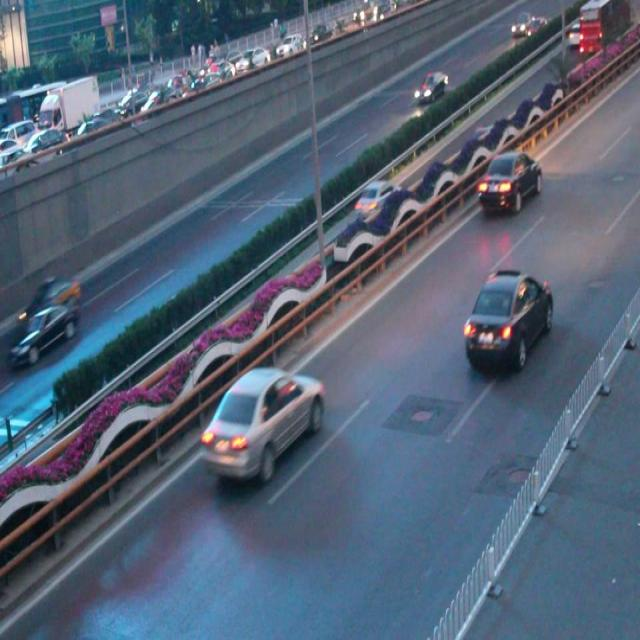car: (202, 364, 322, 480), (463, 268, 552, 372), (477, 148, 541, 212), (18, 305, 78, 361), (33, 274, 82, 314), (353, 178, 395, 219), (412, 69, 448, 104)
